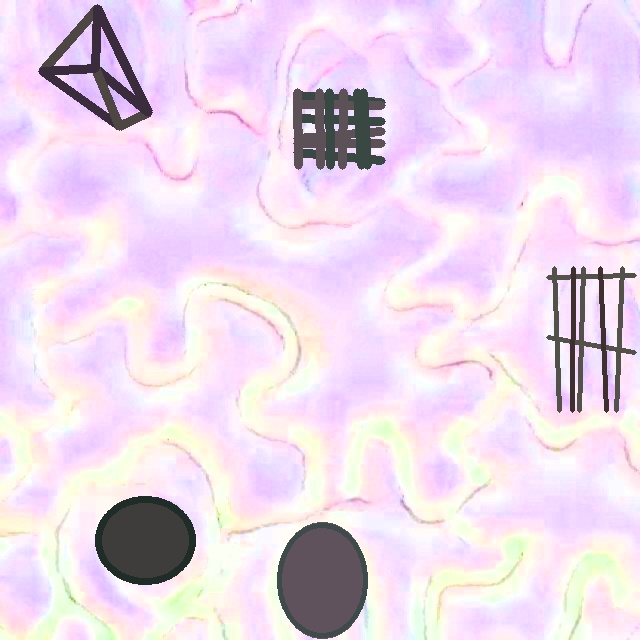open: (38, 5, 152, 130), (546, 266, 636, 411), (277, 522, 367, 639), (95, 495, 196, 584), (293, 88, 385, 169)
